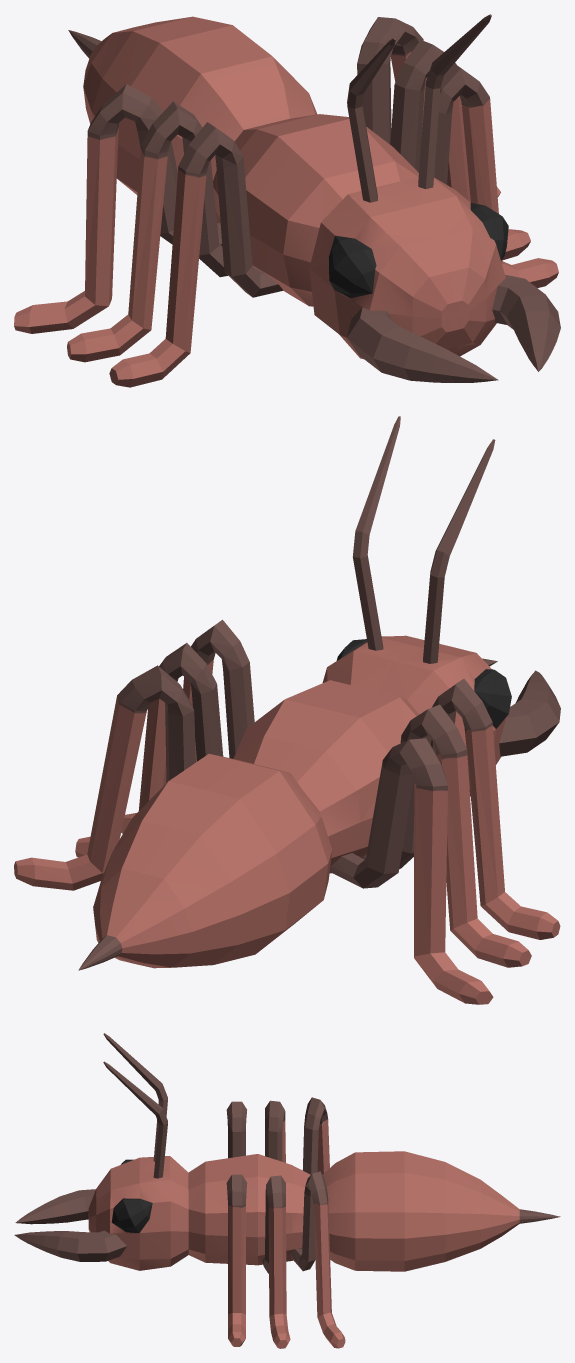
File: BulletAnt_ModelUnattatched_UVW Level 1.fbx
3 renders of one model, top to bottom at view 1: azimuth 30°, elevation 25°; view 2: azimuth 150°, elevation 25°; view 3: azimuth 270°, elevation 25°, orthographic. The views are drawn at different scales.
Visible parts, largest first — view 1: Ant_Eyes, Ant_Leg_Bent, Ant_Leg_Bent004, Ant_Leg_Bent001, Ant_Leg_Bent002, Ant_Pincer_Right, Ant_Leg_Bent003, Ant_Leg_Bent005, Ant_Pincer_Left; view 2: Ant_Eyes, Ant_Leg_Bent004, Ant_Leg_Bent005, Ant_Leg_Bent001, Ant_Leg_Bent, Ant_Leg_Bent003, Ant_Leg_Bent002, Ant_Pincer_Right; view 3: Ant_Eyes, Ant_Leg_Bent005, Ant_Leg_Bent003, Ant_Leg_Bent002, Ant_Pincer_Left, Ant_Leg_Bent004, Ant_Pincer_Right, Ant_Leg_Bent001, Ant_Leg_Bent.
Boxes of the visible parts, bbox=[...] form: Ant_Eyes: bbox=[68, 14, 508, 359]; Ant_Leg_Bent: bbox=[109, 122, 283, 387]; Ant_Leg_Bent004: bbox=[14, 84, 222, 333]; Ant_Leg_Bent001: bbox=[67, 101, 228, 362]; Ant_Leg_Bent002: bbox=[434, 63, 558, 287]; Ant_Pincer_Right: bbox=[347, 307, 498, 382]; Ant_Leg_Bent003: bbox=[390, 40, 530, 260]; Ant_Leg_Bent005: bbox=[357, 17, 500, 197]; Ant_Pincer_Left: bbox=[492, 275, 560, 371]; Ant_Eyes: bbox=[78, 416, 511, 970]; Ant_Leg_Bent004: bbox=[330, 738, 493, 1004]; Ant_Leg_Bent005: bbox=[14, 665, 195, 890]; Ant_Leg_Bent001: bbox=[363, 704, 531, 967]; Ant_Leg_Bent: bbox=[430, 679, 560, 939]; Ant_Leg_Bent003: bbox=[75, 643, 223, 857]; Ant_Leg_Bent002: bbox=[121, 619, 254, 833]; Ant_Pincer_Right: bbox=[499, 670, 560, 756]; Ant_Eyes: bbox=[88, 1033, 560, 1271]; Ant_Leg_Bent005: bbox=[289, 1171, 345, 1348]; Ant_Leg_Bent003: bbox=[262, 1175, 290, 1348]; Ant_Leg_Bent002: bbox=[226, 1174, 247, 1346]; Ant_Pincer_Left: bbox=[14, 1230, 126, 1261]; Ant_Leg_Bent004: bbox=[302, 1097, 329, 1174]; Ant_Pincer_Right: bbox=[15, 1189, 95, 1224]; Ant_Leg_Bent001: bbox=[265, 1100, 285, 1162]; Ant_Leg_Bent: bbox=[226, 1101, 246, 1158].
Bounding box in the file's own units: 152 × 117 × 243.
3 materials, 3 textured.
